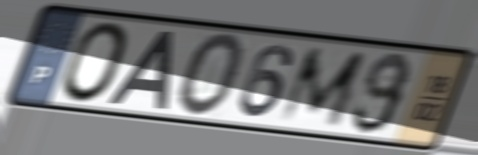6: (237, 42, 295, 120)
9: (348, 50, 413, 138)
A: (105, 28, 179, 112)
M: (274, 46, 371, 130)
O: (173, 30, 247, 120), (60, 19, 133, 106)
